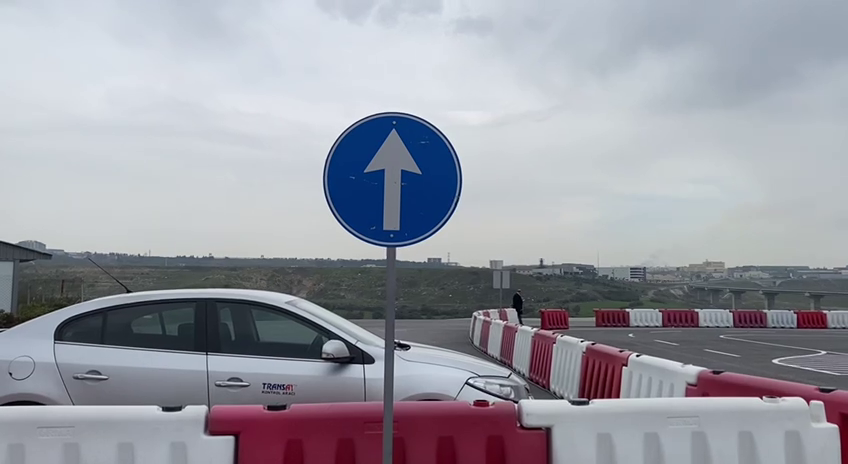forward: (322, 109, 464, 250)
